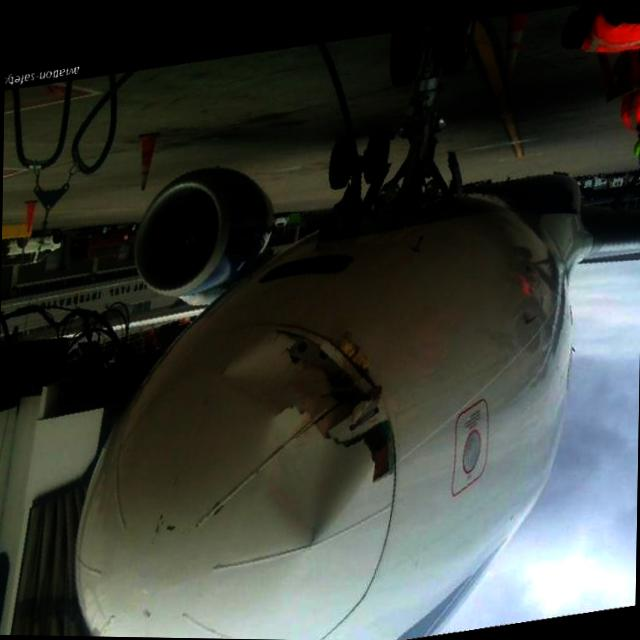dent: (262, 419, 373, 540), (222, 326, 287, 414)
